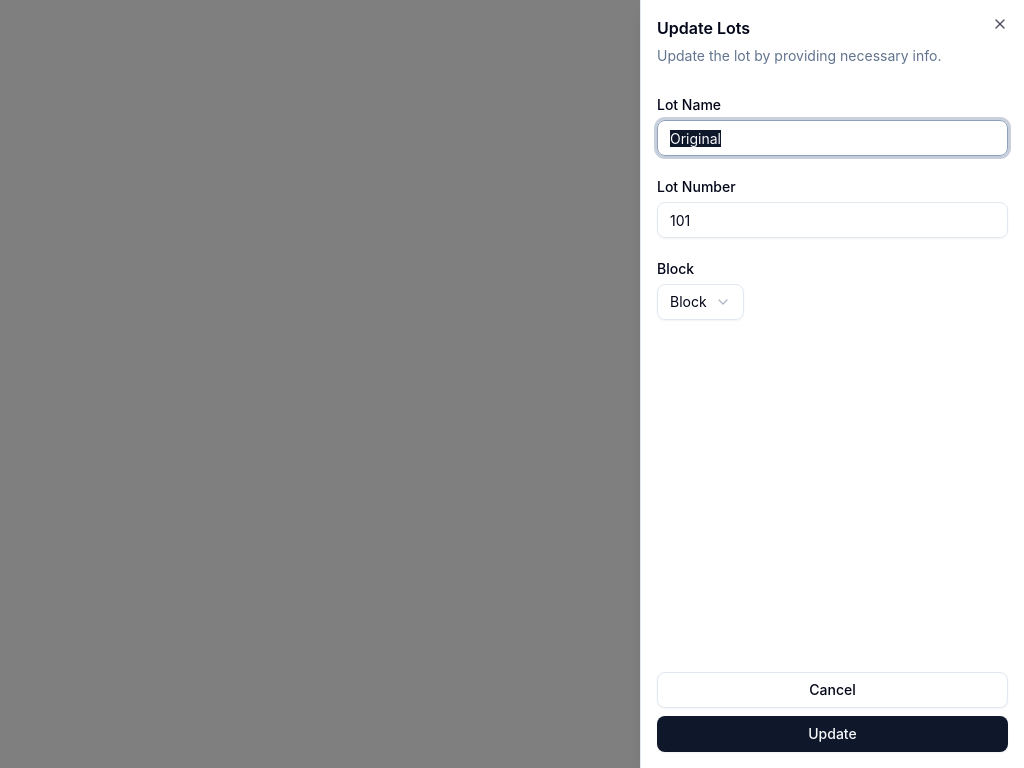
rejects fractional lot numbers before saving
Replace the text in the field labelled "Lot Number" with "1.5": point(832, 220) [657,202,1008,238]
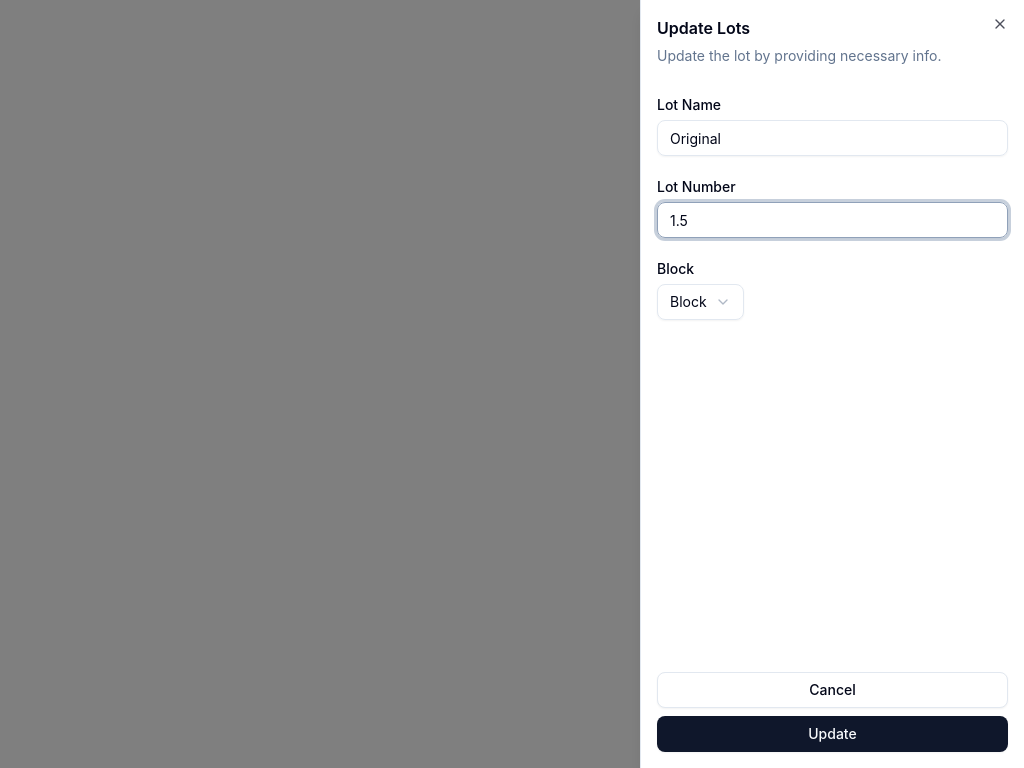
Click the button "Update": point(832, 734) [657,716,1008,752]
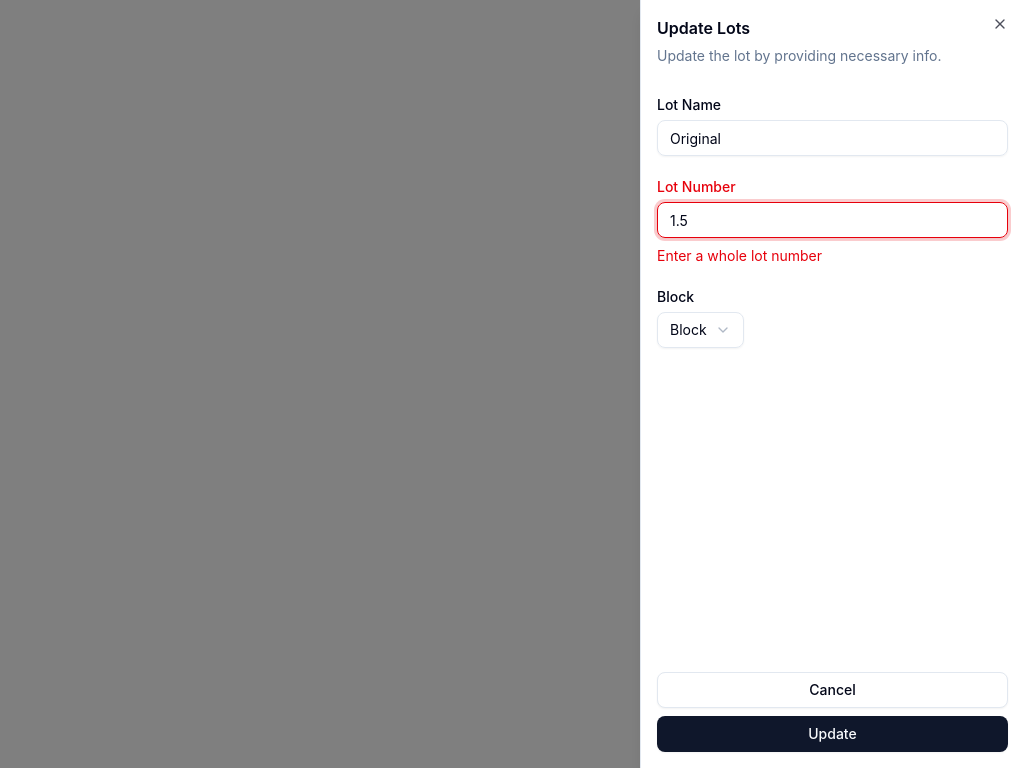
Expected: the text "Enter a whole lot number" is shown, [657,247,822,264]
